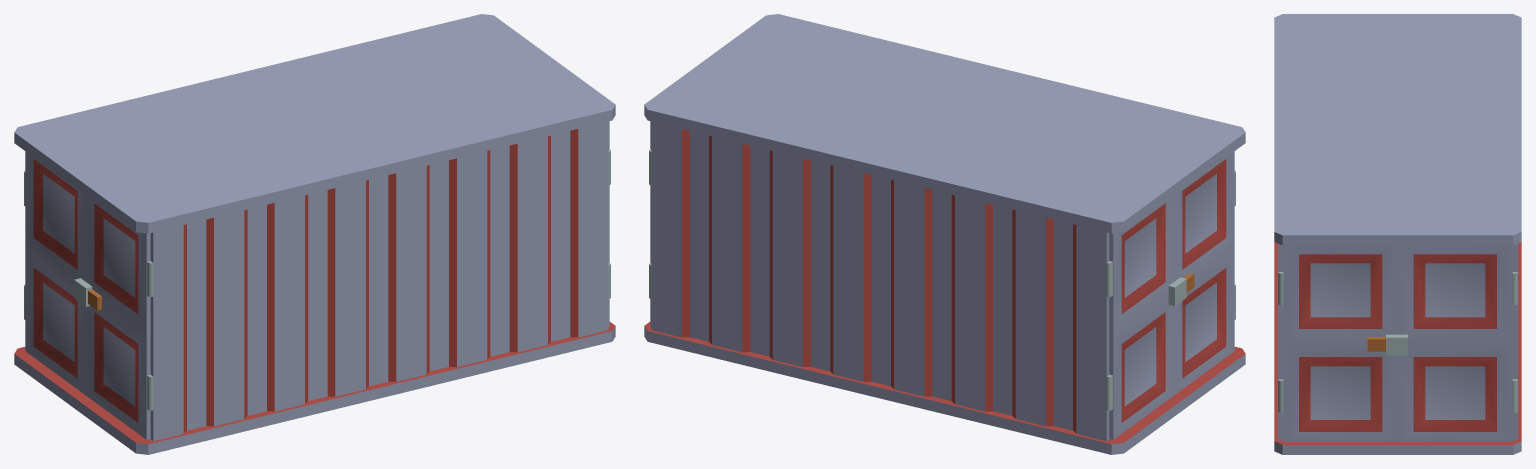
Rendered from Container_Red.FBX.
3 renders of one model, left to right at view 1: azimuth 30°, elevation 25°; view 2: azimuth 150°, elevation 25°; view 3: azimuth 270°, elevation 25°, orthographic. The views are drawn at different scales.
Visible parts, largest first — view 1: Box007; view 2: Box007; view 3: Box007.
Boxes of the visible parts, x1=… form: Box007: x1=14, y1=14, x2=615, y2=454; Box007: x1=644, y1=14, x2=1245, y2=454; Box007: x1=1274, y1=14, x2=1521, y2=454.
Size of the model in its own units: 672 by 310 by 317.
